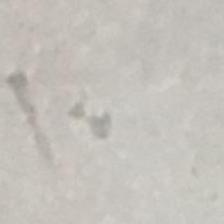Non_Crack: (17, 37, 199, 192)
